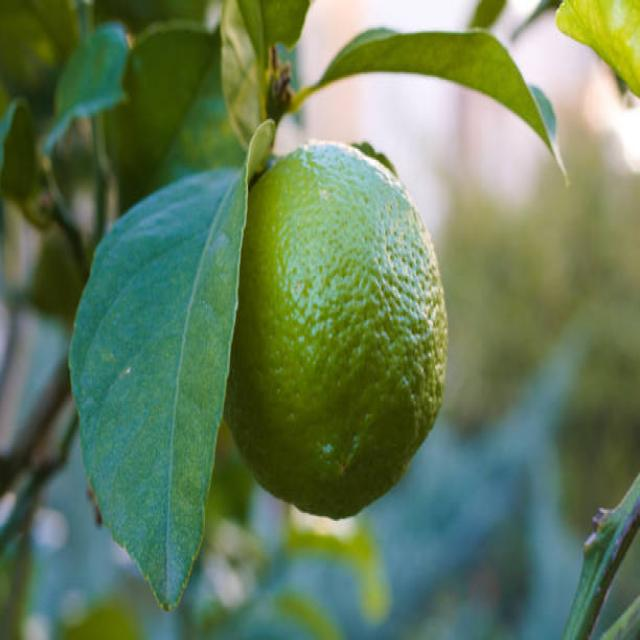Unripe: (223, 142, 447, 519)
